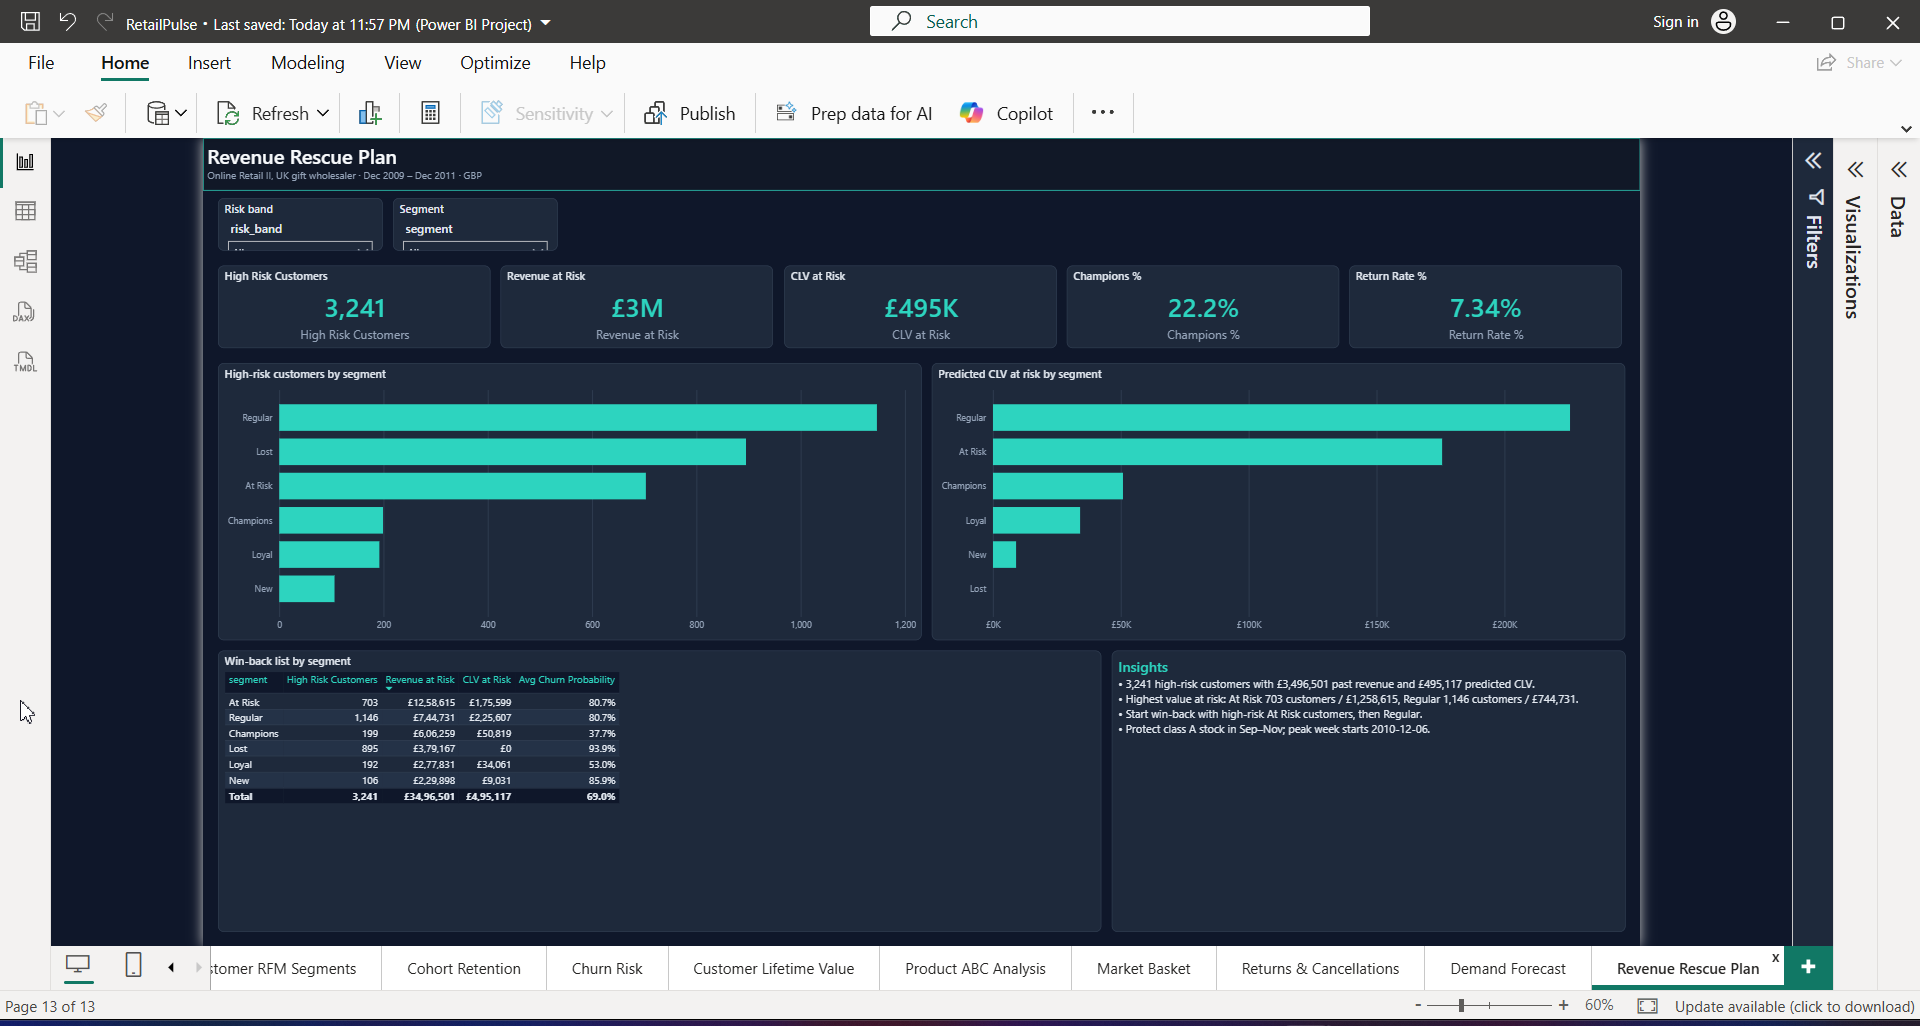

This screenshot's page, from the dashboard's own definition file:
{"tool":"powerbi","page":{"name":"Revenue Rescue Plan","canvas":[1920,1080],"ordinal":12},"visuals":[{"type":"textbox","box":[0,0,1920,70],"z":0},{"type":"slicer","title":"Risk band","fields":{"Values":["churn_scores.risk_band"]},"box":[20,80,220,70],"z":1000},{"type":"slicer","title":"Segment","fields":{"Values":["churn_scores.segment"]},"box":[254,80,220,70],"z":2000},{"type":"card","title":"High Risk Customers","fields":{"Values":["_Measures.High Risk Customers"]},"box":[20,170,364,110],"z":3000},{"type":"card","title":"Revenue at Risk","fields":{"Values":["_Measures.Revenue at Risk"]},"box":[398,170,364,110],"z":4000},{"type":"card","title":"CLV at Risk","fields":{"Values":["_Measures.CLV at Risk"]},"box":[776,170,364,110],"z":5000},{"type":"card","title":"Champions %","fields":{"Values":["_Measures.Champions %"]},"box":[1154,170,364,110],"z":6000},{"type":"card","title":"Return Rate %","fields":{"Values":["_Measures.Return Rate %"]},"box":[1532,170,364,110],"z":7000},{"type":"clusteredBarChart","title":"High-risk customers by segment","fields":{"Category":["churn_scores.segment"],"Y":["_Measures.High Risk Customers"]},"box":[20,300,940,370],"z":8000},{"type":"clusteredBarChart","title":"Predicted CLV at risk by segment","fields":{"Category":["churn_scores.segment"],"Y":["_Measures.CLV at Risk"]},"box":[974,300,926,370],"z":9000},{"type":"tableEx","title":"Win-back list by segment","fields":{"Values":["churn_scores.segment","_Measures.High Risk Customers","_Measures.Revenue at Risk","_Measures.CLV at Risk","_Measures.Avg Churn Probability"]},"box":[20,684,1180,376],"z":10000},{"type":"textbox","box":[1214,684,686,376],"z":11000}]}

Visuals, with their boxes on the page's 1920x1080 design canvas (x1, y1, x2, y2). These are canvas units, not pixel positions in the 1920x1026 screenshot, which may show the page scaled, cropped or inside an application window:
textbox: crop(0, 0, 1920, 70)
"Risk band" slicer: crop(20, 80, 240, 150)
"Segment" slicer: crop(254, 80, 474, 150)
"High Risk Customers" card: crop(20, 170, 384, 280)
"Revenue at Risk" card: crop(398, 170, 762, 280)
"CLV at Risk" card: crop(776, 170, 1140, 280)
"Champions %" card: crop(1154, 170, 1518, 280)
"Return Rate %" card: crop(1532, 170, 1896, 280)
"High-risk customers by segment" clusteredBarChart: crop(20, 300, 960, 670)
"Predicted CLV at risk by segment" clusteredBarChart: crop(974, 300, 1900, 670)
"Win-back list by segment" tableEx: crop(20, 684, 1200, 1060)
textbox: crop(1214, 684, 1900, 1060)
